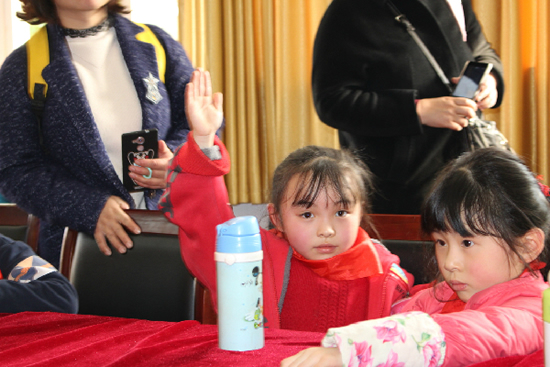handsup: (164, 62, 412, 341)
other: (285, 153, 539, 362)
